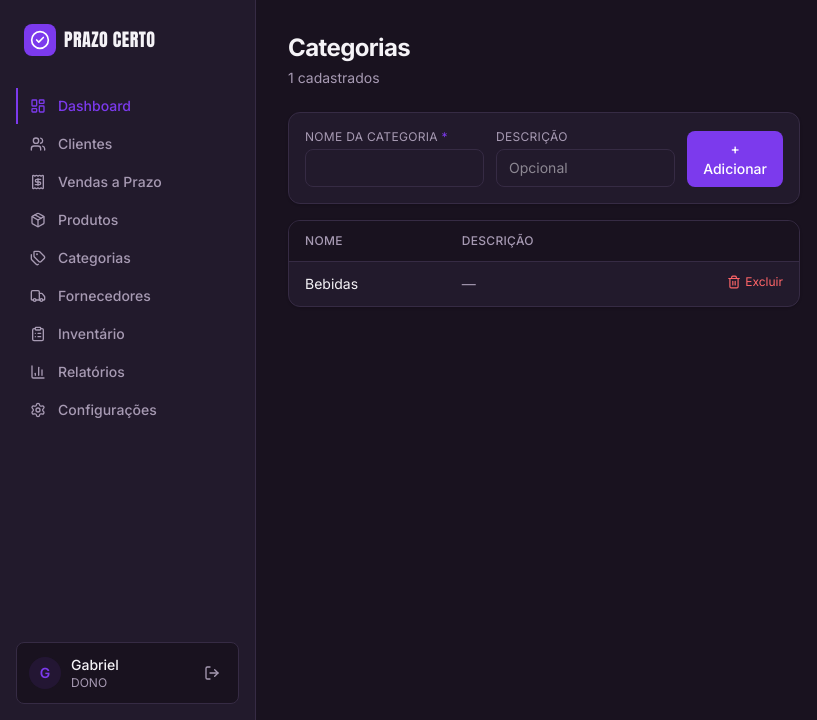
Scenario: CadastroSimplesPage › exclui um item quando o usuário é DONO
expect the text "Bebidas" is shown: met, box [289,262,446,306]
Click the button "Excluir" at (755, 282), box [727,274,783,290]
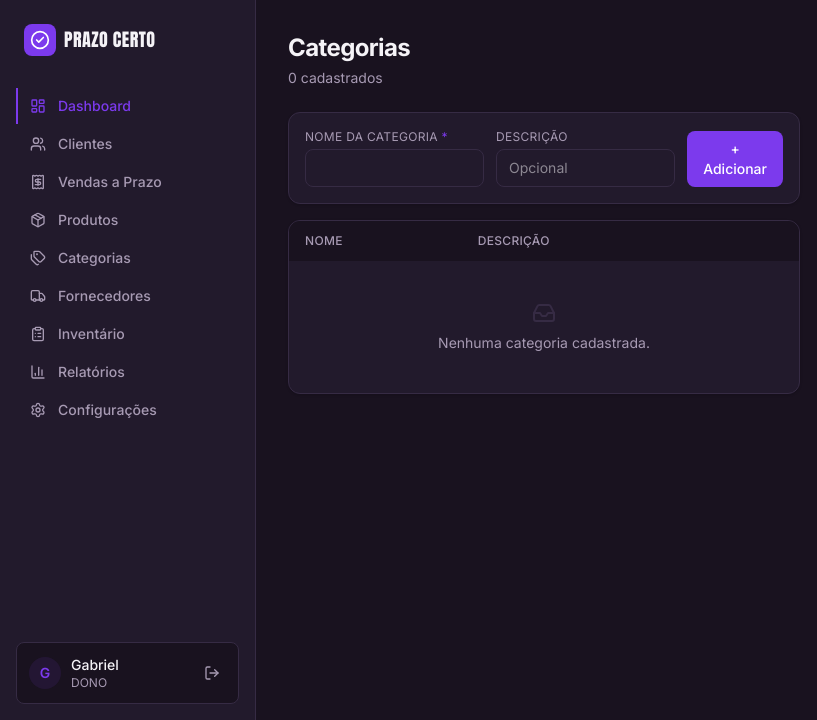
expect the text "Bebidas" is gone: met
